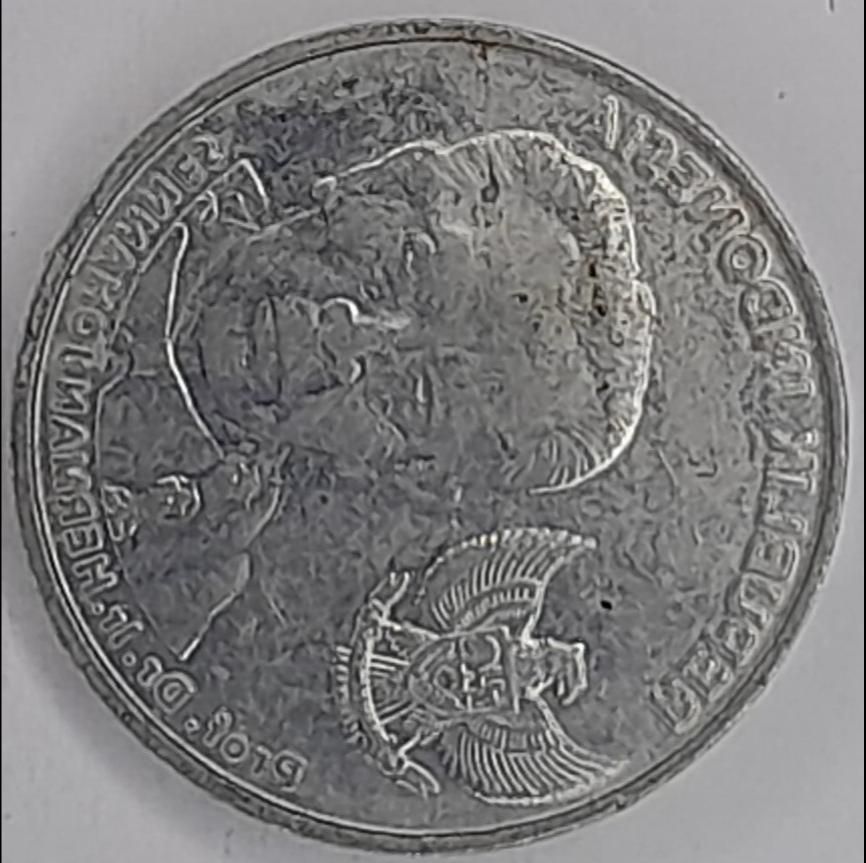coin_100_e2016: (6, 10, 855, 858)
